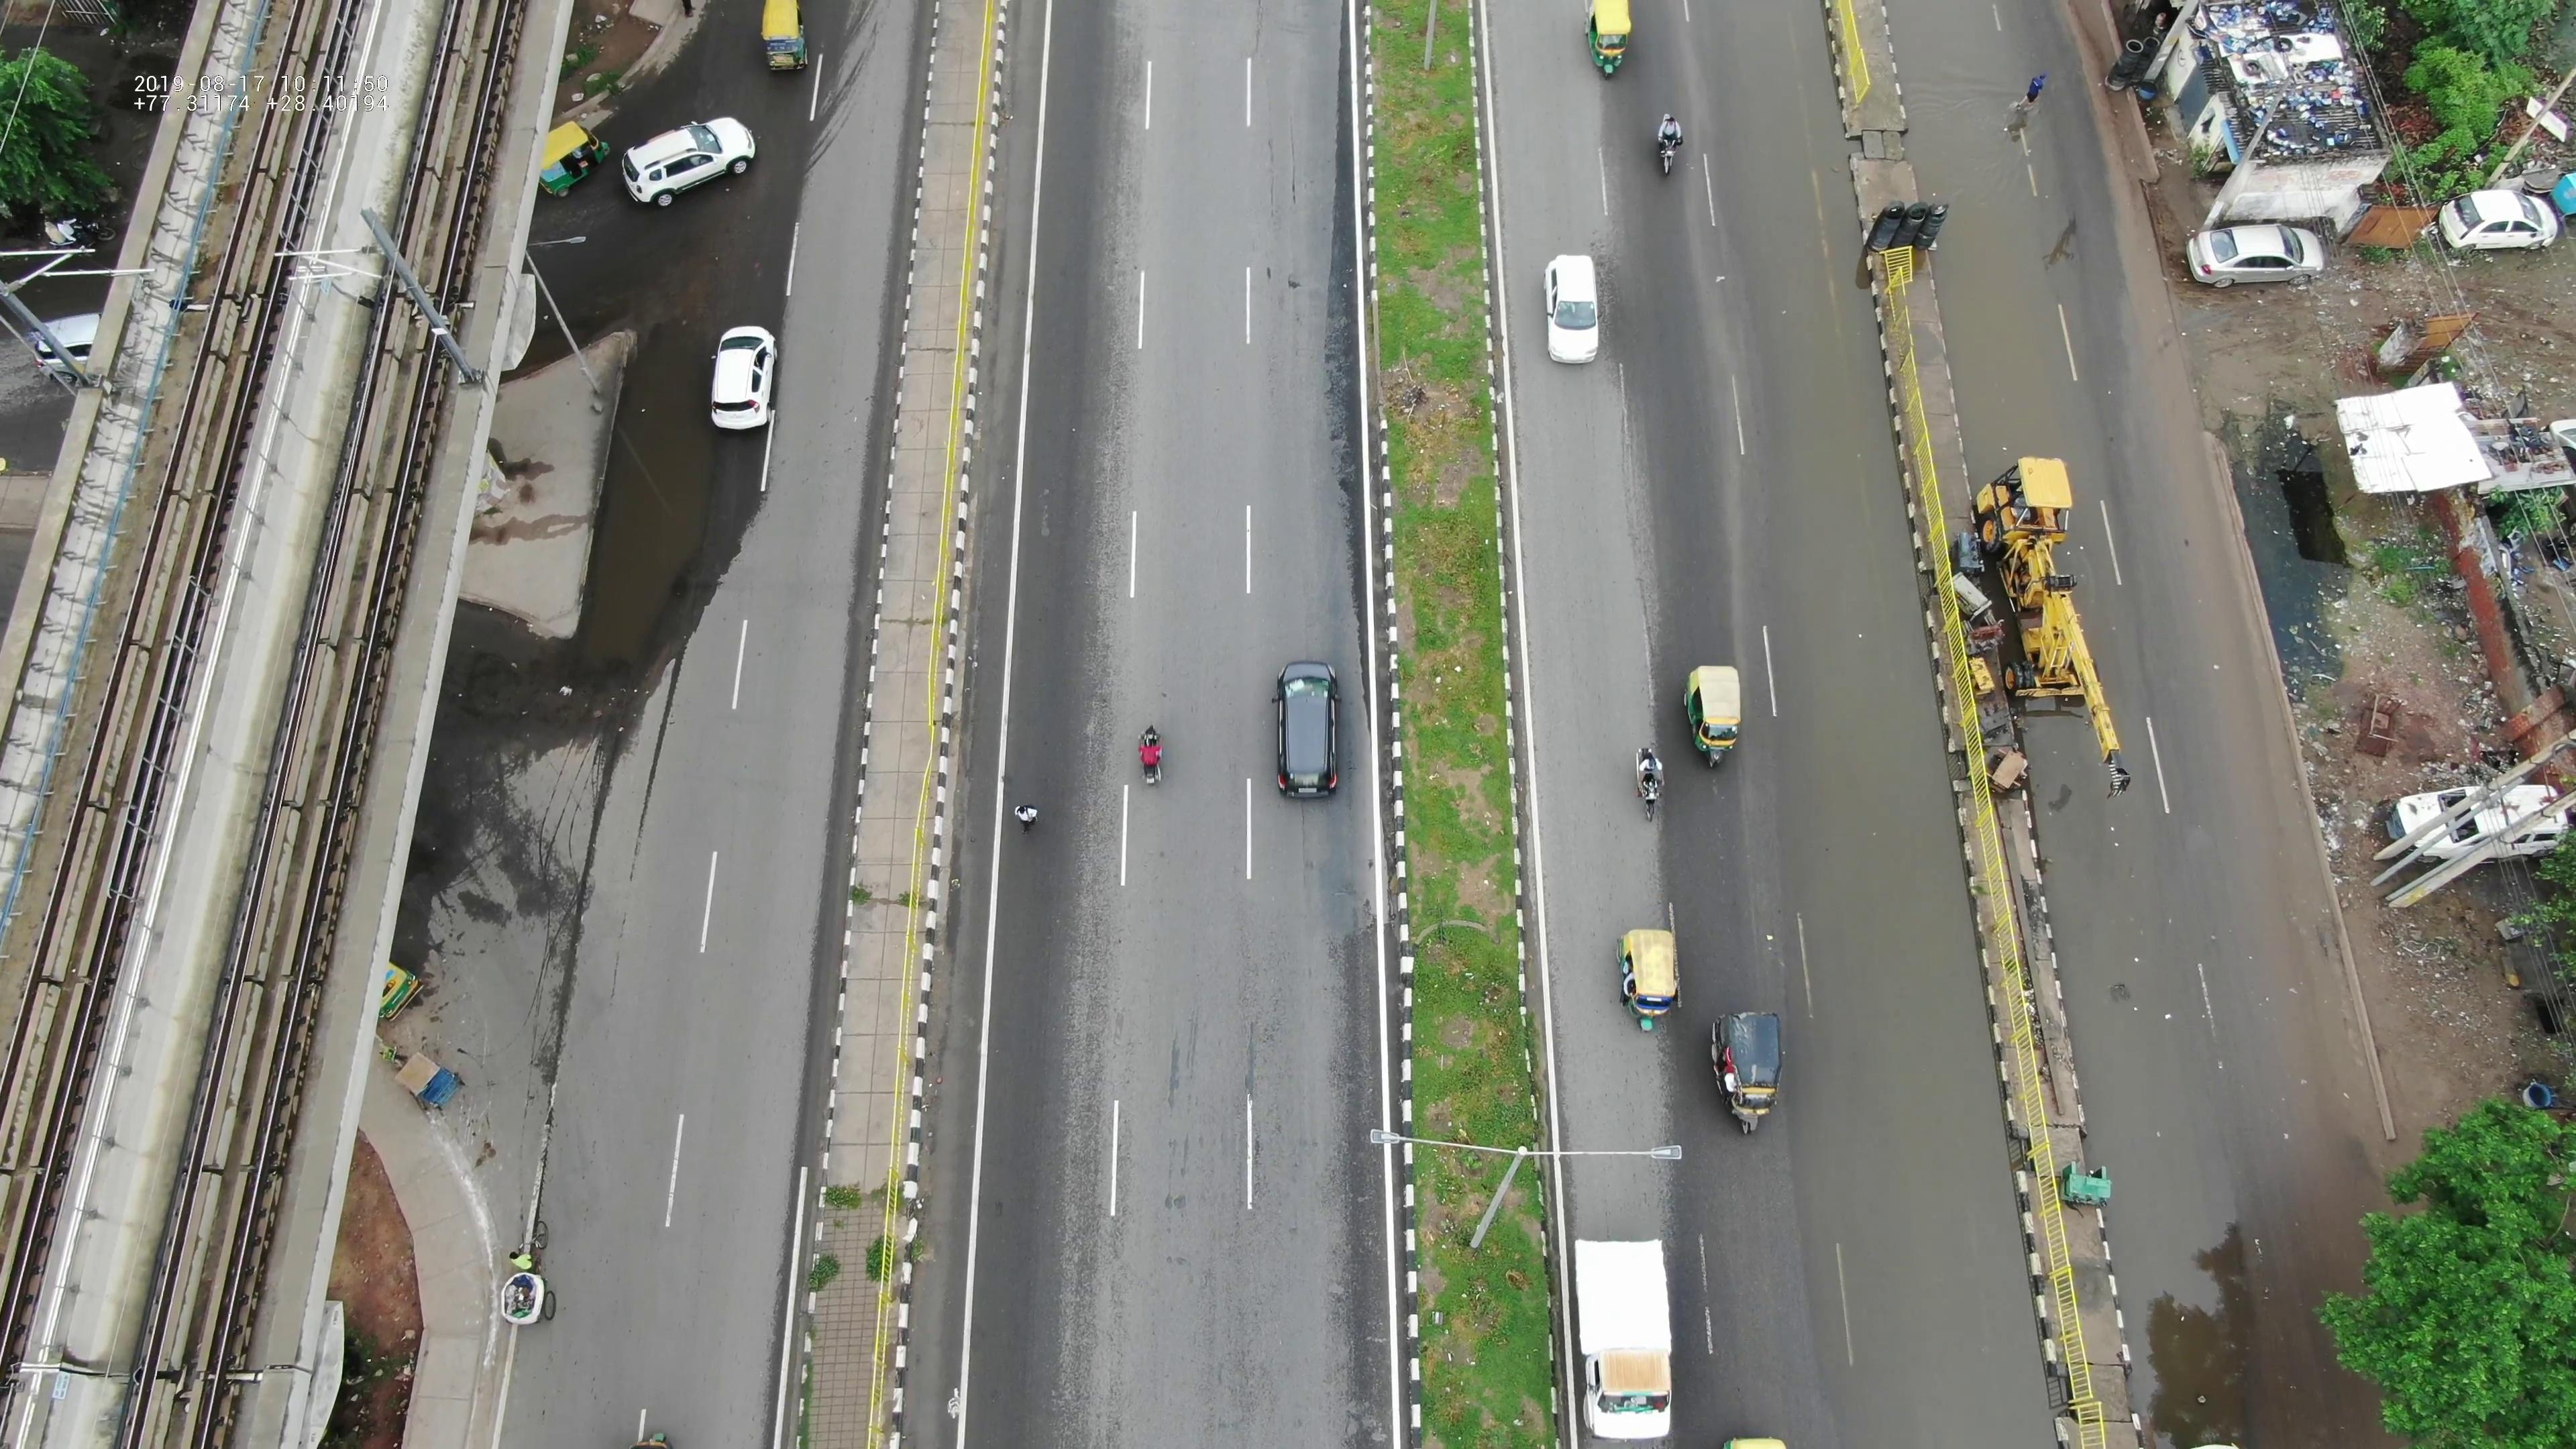Waterlogging: (2028, 821, 2250, 1318), (1780, 782, 2013, 1143), (1732, 326, 1927, 665), (1898, 76, 2077, 439), (557, 356, 738, 690)
